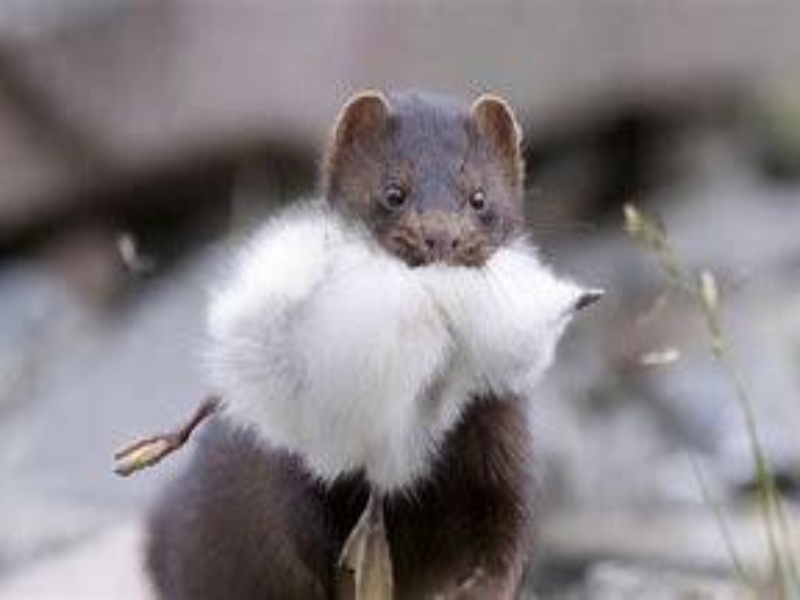minkish: (139, 79, 546, 597)
